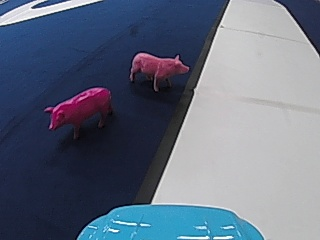pig: (43, 84, 112, 137), (126, 48, 190, 91)
